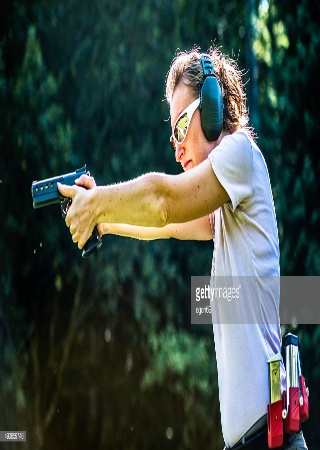handgun: (27, 161, 107, 260)
